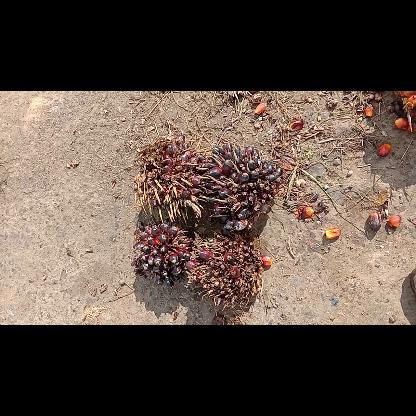TBS abnormal: (199, 145, 281, 230), (132, 135, 209, 223), (186, 234, 262, 310), (131, 218, 193, 286)
